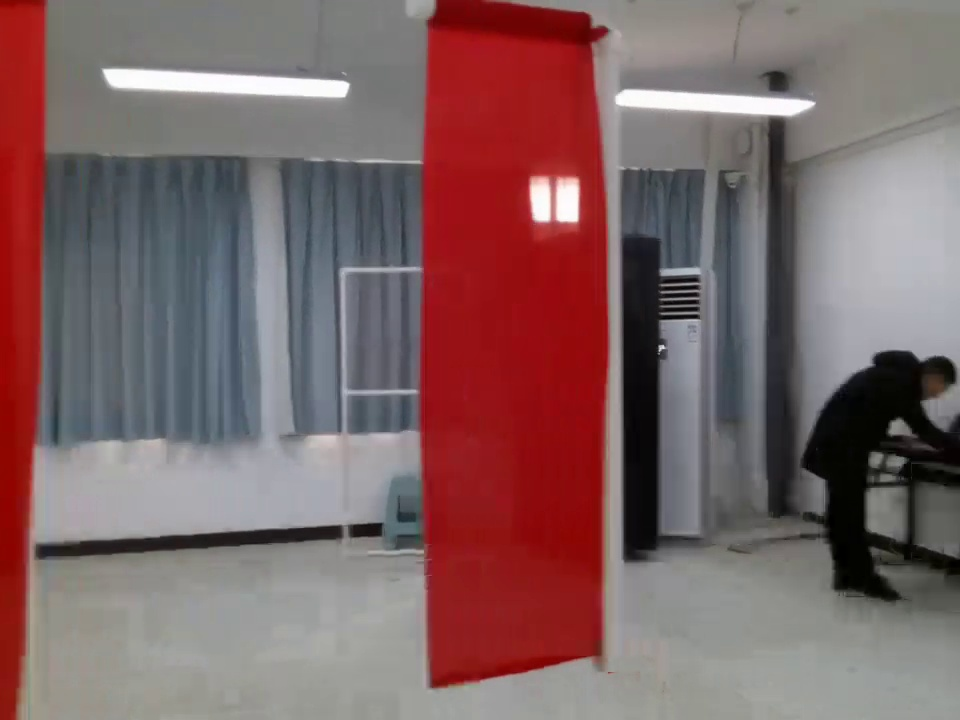qi: (400, 3, 625, 711)
